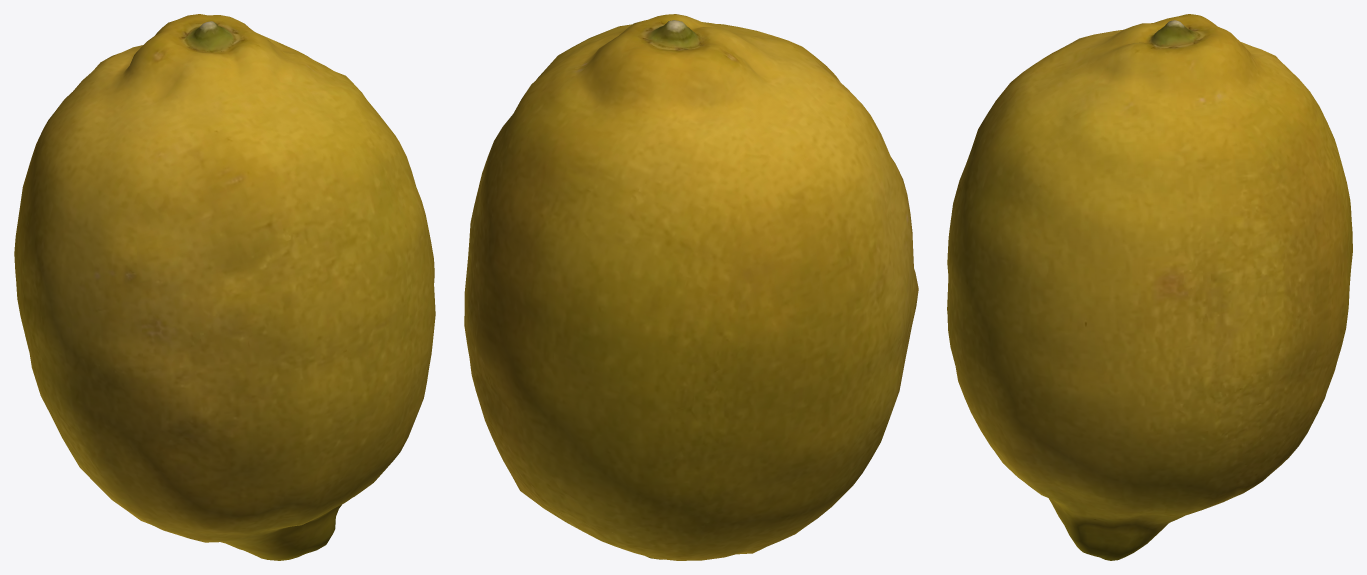
Rendered from lemon.glb.
The picture shows the model from 3 angles, left to right: view 1: azimuth 30°, elevation 25°; view 2: azimuth 150°, elevation 25°; view 3: azimuth 270°, elevation 25°; orthographic projection. The views are drawn at different scales.
Parts seen in each view (by area): view 1: lemon; view 2: lemon; view 3: lemon.
Boxes of the visible parts, x1,y1,x2,y2 form: lemon: (14, 14, 435, 560); lemon: (464, 14, 918, 560); lemon: (947, 14, 1352, 560).
Bounding box in the file's own units: 0.0687 × 0.0954 × 0.0683.
1 material, 1 textured.
